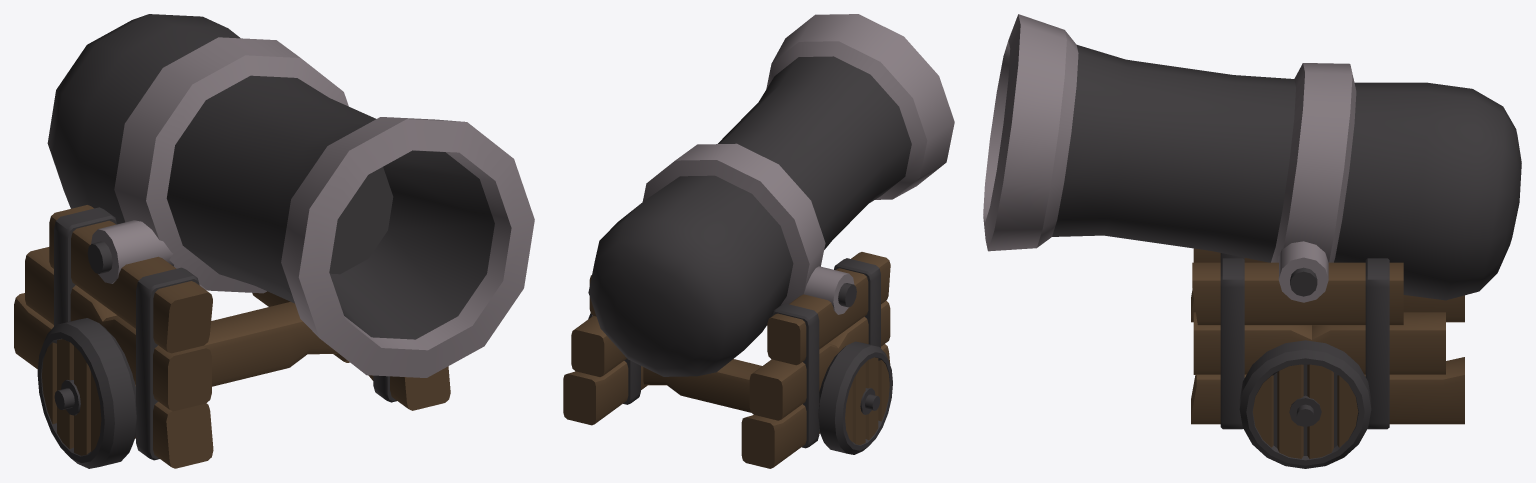
File: Cannon.glb
3 views of the same model, side by side, from view 1: azimuth 30°, elevation 25°; view 2: azimuth 150°, elevation 25°; view 3: azimuth 270°, elevation 25° (orthographic). The views are drawn at different scales.
Parts seen in each view (by area): view 1: Prop_Cannon; view 2: Prop_Cannon; view 3: Prop_Cannon.
Part boxes in pixels (left/top/right/bottom): Prop_Cannon: left=14, top=14, right=534, bottom=468; Prop_Cannon: left=563, top=14, right=954, bottom=468; Prop_Cannon: left=983, top=14, right=1521, bottom=468.
Bounding box in the file's own units: 1.04 × 1.13 × 1.48.
1 material, 1 textured.
